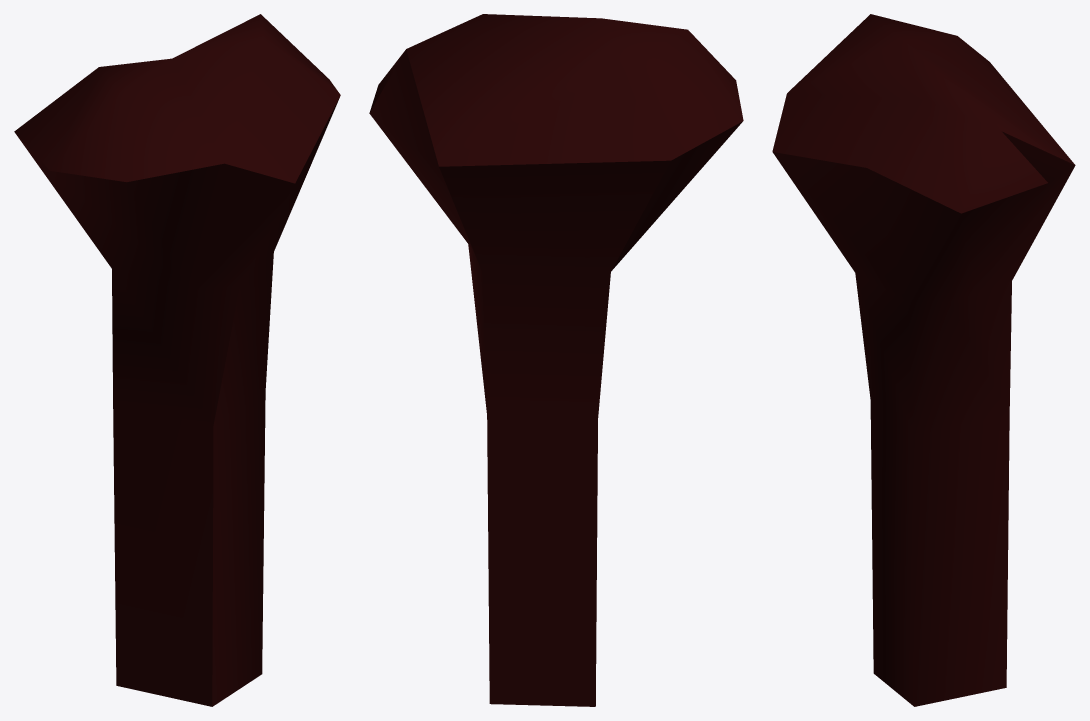
File: UCX_Pillar_B.fbx
3 views of the same model, side by side, from view 1: azimuth 30°, elevation 25°; view 2: azimuth 150°, elevation 25°; view 3: azimuth 270°, elevation 25° (orthographic). The views are drawn at different scales.
Parts seen in each view (by area): view 1: UCX_Pillar_B; view 2: UCX_Pillar_B; view 3: UCX_Pillar_B.
Part boxes in pixels (left/top/right/bottom): UCX_Pillar_B: left=14, top=14, right=340, bottom=706; UCX_Pillar_B: left=369, top=14, right=743, bottom=706; UCX_Pillar_B: left=772, top=14, right=1075, bottom=706.
Bounding box in the file's own units: 263 × 509 × 225.
